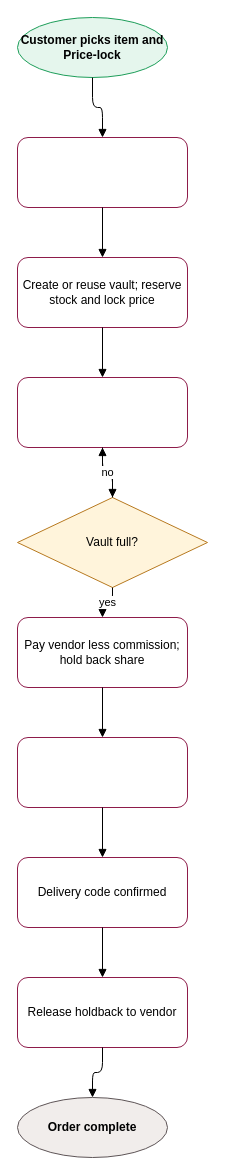
The diagram is 225 pixels wide and 1175 high, and some of its shapes have lost their labels. Each missing label, with the centre of its shape:
"Customer funds vault (auto or manual)" belongs at (x=102, y=412).
"Order released; vendor fulfils; delivery code issued" belongs at (x=102, y=772).
"Plan summary: price, deadline, penalty, fees; accept with PIN" belongs at (x=102, y=172).
